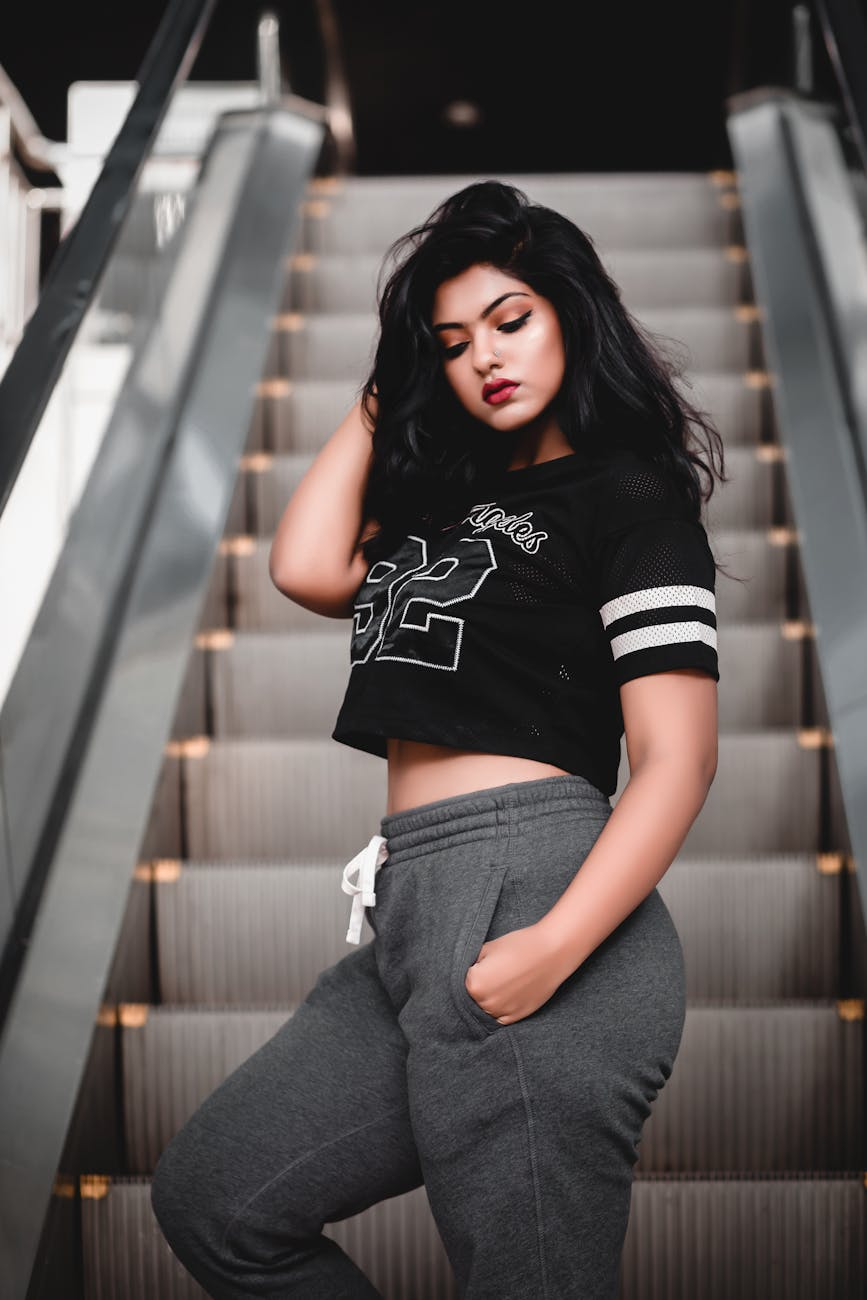crop_top: (325, 437, 735, 782)
